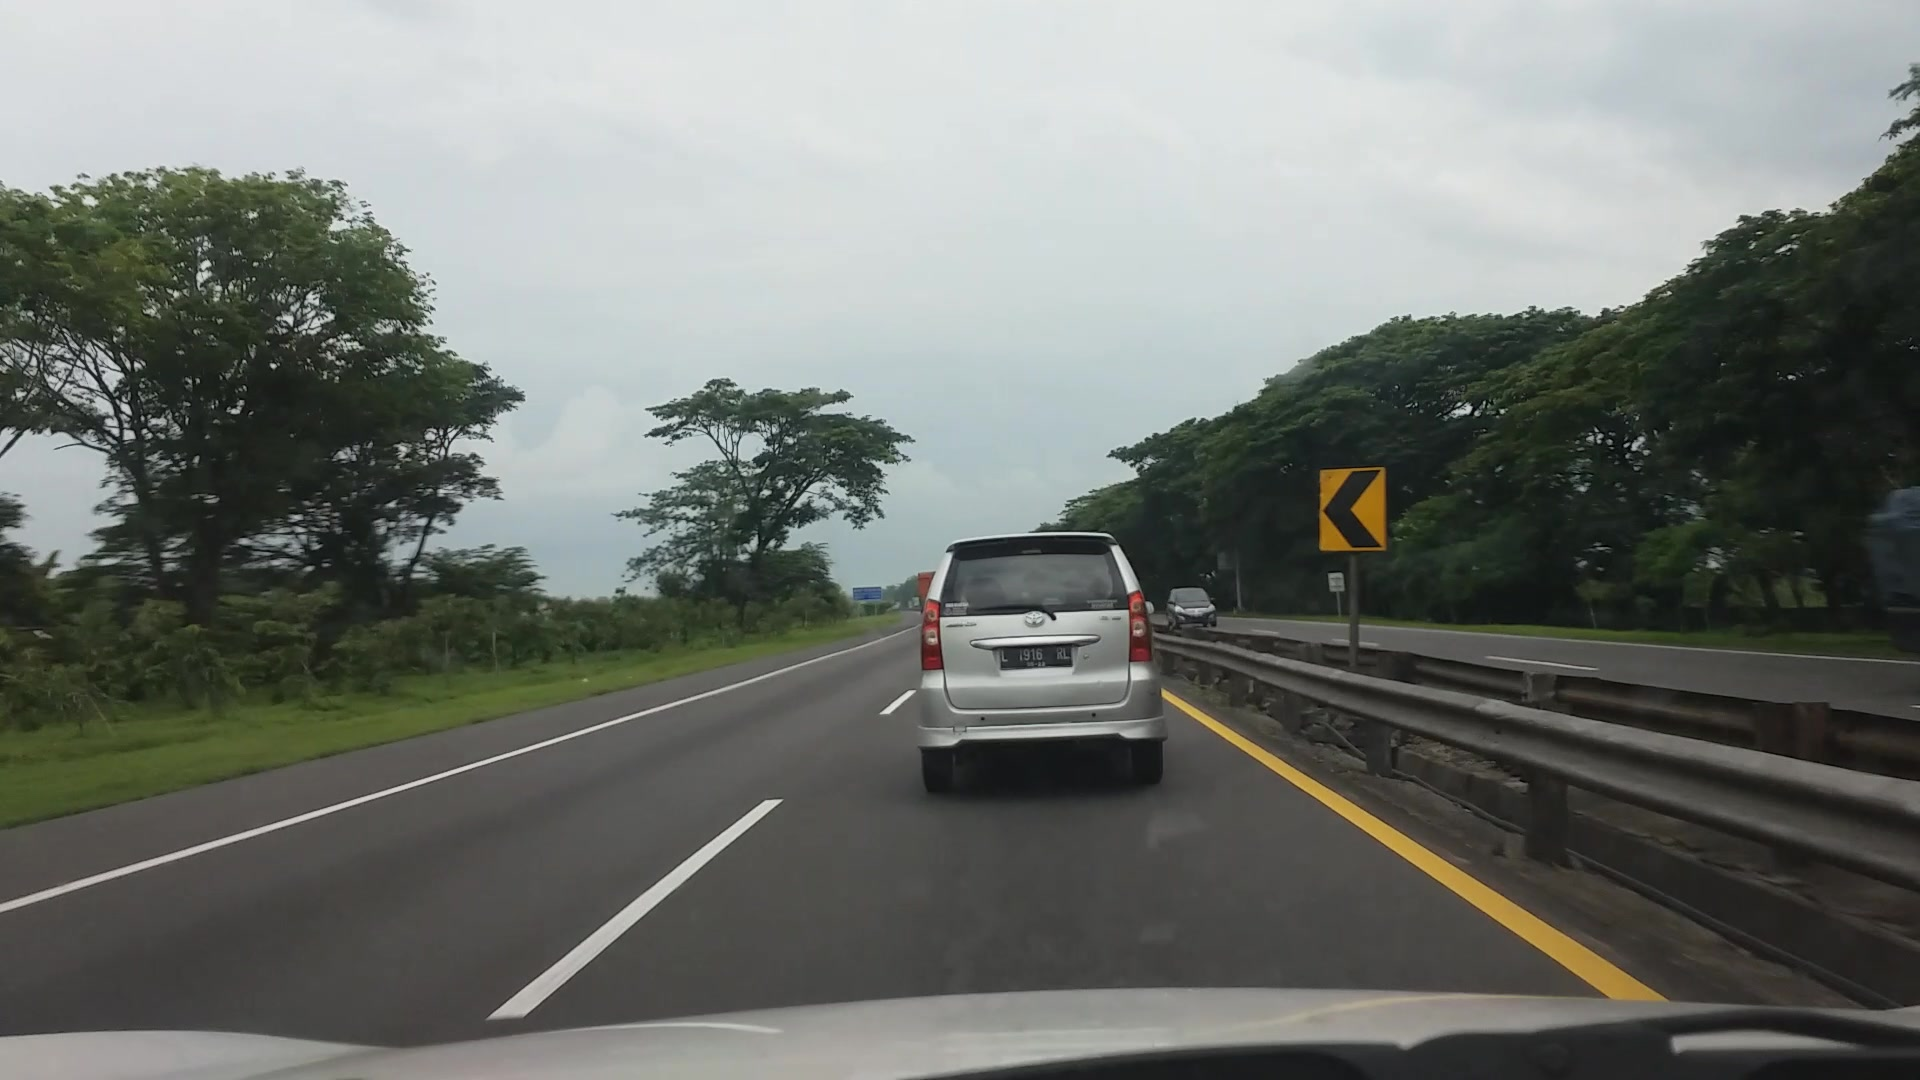plate_positive: (1000, 644, 1072, 669)
